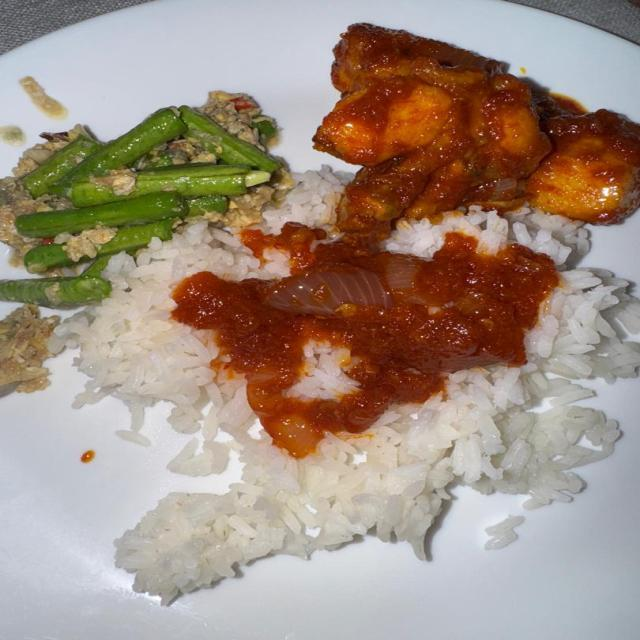Chicken: (292, 19, 639, 252)
Plate: (0, 354, 639, 639)
Rice: (36, 164, 639, 615)
Vegetables: (0, 66, 306, 402)
